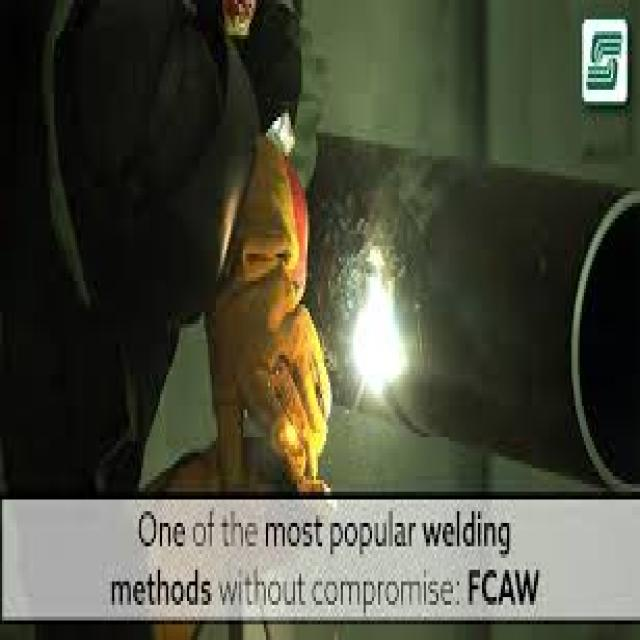welding: (351, 286, 410, 400)
